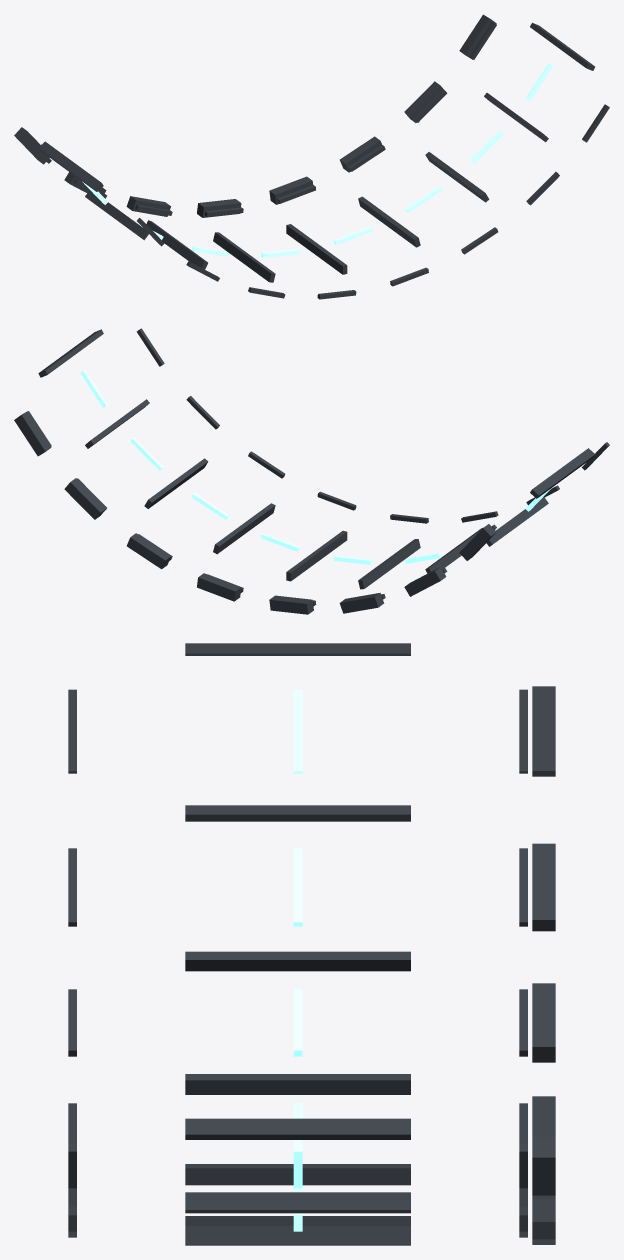
File: cockpit_canopy.glb
The picture shows the model from 3 angles, top to bottom: view 1: azimuth 30°, elevation 25°; view 2: azimuth 150°, elevation 25°; view 3: azimuth 270°, elevation 25°; orthographic projection. The views are drawn at different scales.
Parts seen in each view (by area): view 1: CockpitCanopy; view 2: CockpitCanopy; view 3: CockpitCanopy.
Boxes of the visible parts, bbox=[...] form: CockpitCanopy: bbox=[14, 14, 609, 299]; CockpitCanopy: bbox=[14, 328, 609, 614]; CockpitCanopy: bbox=[68, 643, 555, 1245].
Size of the model in its own units: 7.95 by 2.29 by 3.35.
